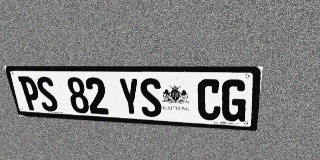2: (84, 77, 109, 114)
8: (65, 77, 90, 113)
C: (197, 79, 222, 121)
G: (221, 79, 248, 122)
P: (18, 76, 43, 111)
S: (35, 76, 60, 112), (139, 78, 162, 117)
Y: (118, 78, 142, 116)
